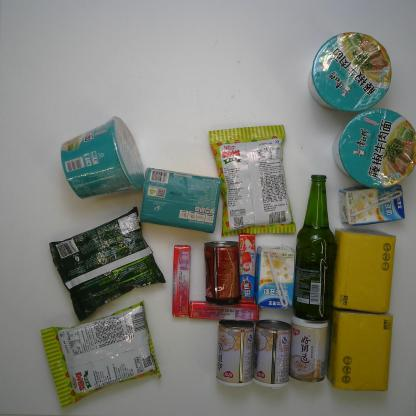Alcohol: (297, 170, 337, 320)
Candy: (191, 300, 260, 324), (237, 229, 258, 304), (172, 244, 190, 320)
Canned Food: (214, 317, 256, 385), (253, 318, 291, 387), (203, 240, 239, 307), (292, 314, 326, 384)
Instant Noodles: (44, 203, 165, 320), (58, 113, 147, 203), (331, 105, 416, 187), (312, 30, 395, 108)
Milk: (335, 179, 404, 226), (257, 242, 294, 310)
Puffed Food: (41, 301, 161, 409), (208, 123, 296, 237)
Tissue: (137, 164, 222, 234), (329, 306, 395, 392), (333, 228, 395, 313)
